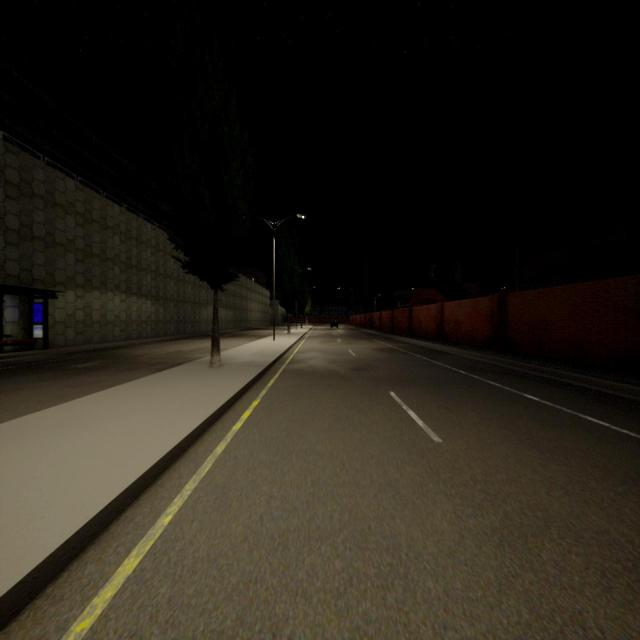Vehicle: (330, 320, 338, 328)
